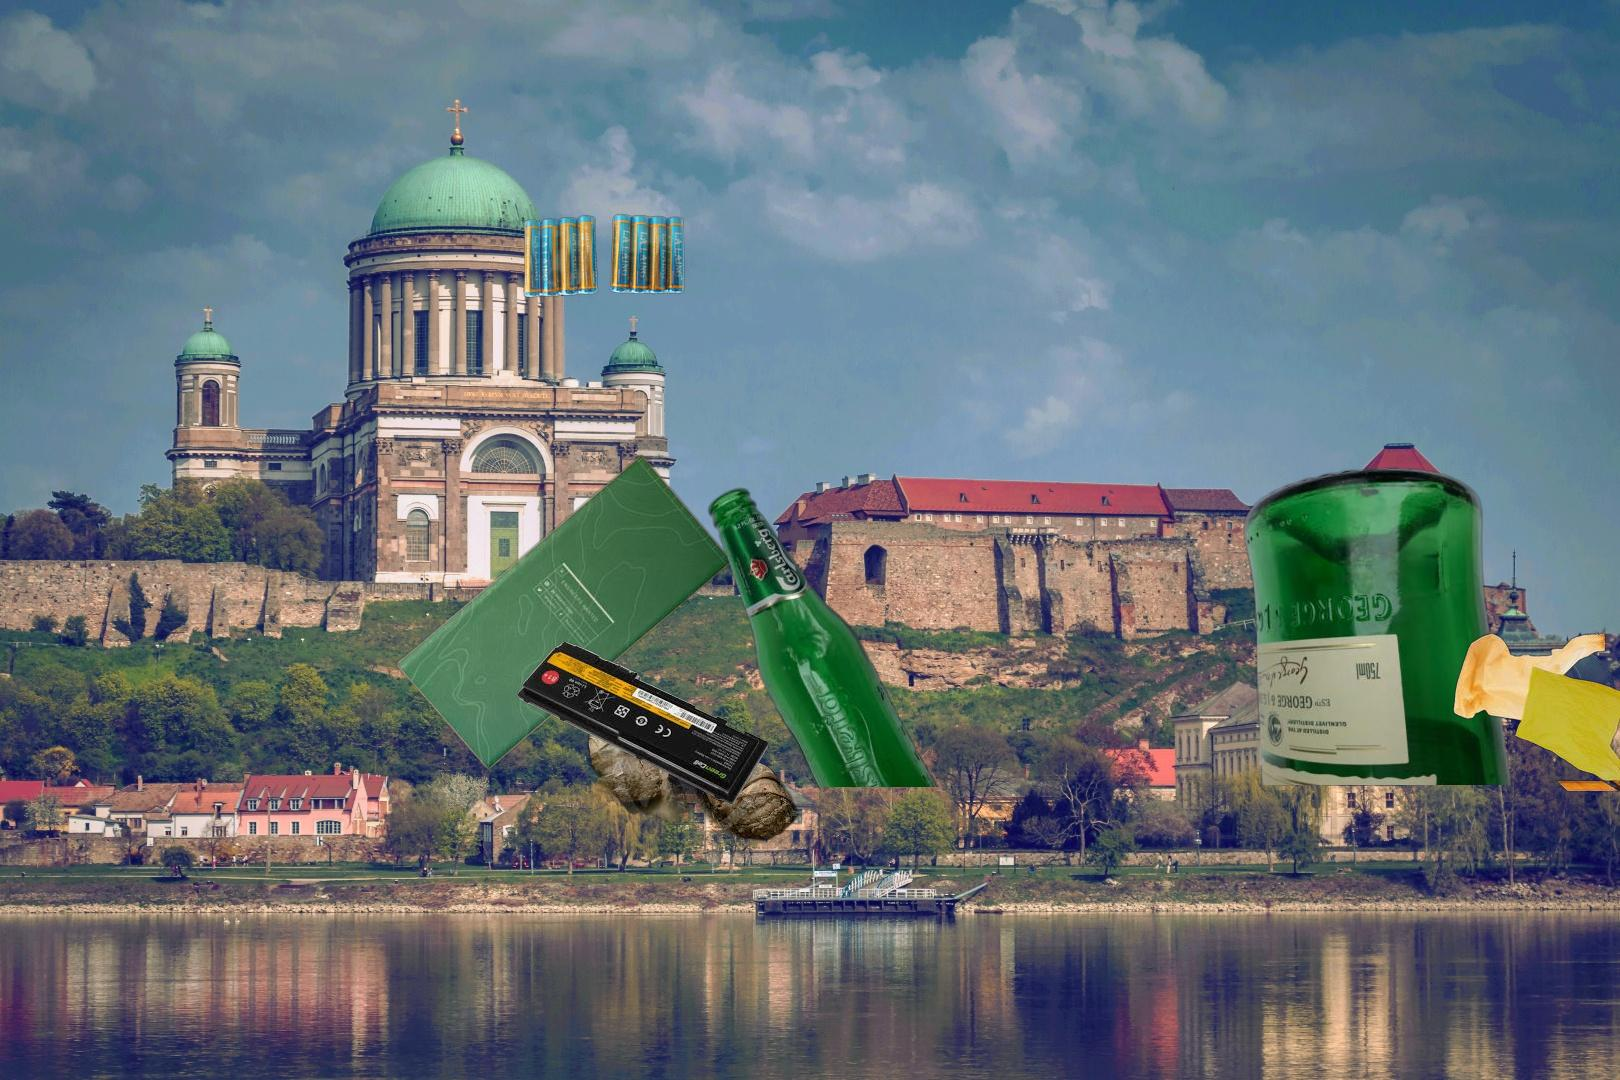battery: (515, 639, 771, 808), (521, 211, 687, 300)
glass: (1239, 464, 1516, 785), (705, 485, 943, 787)
paper: (392, 452, 736, 773)
plastic-bag: (1450, 617, 1620, 803)
shoes: (583, 677, 805, 862)
